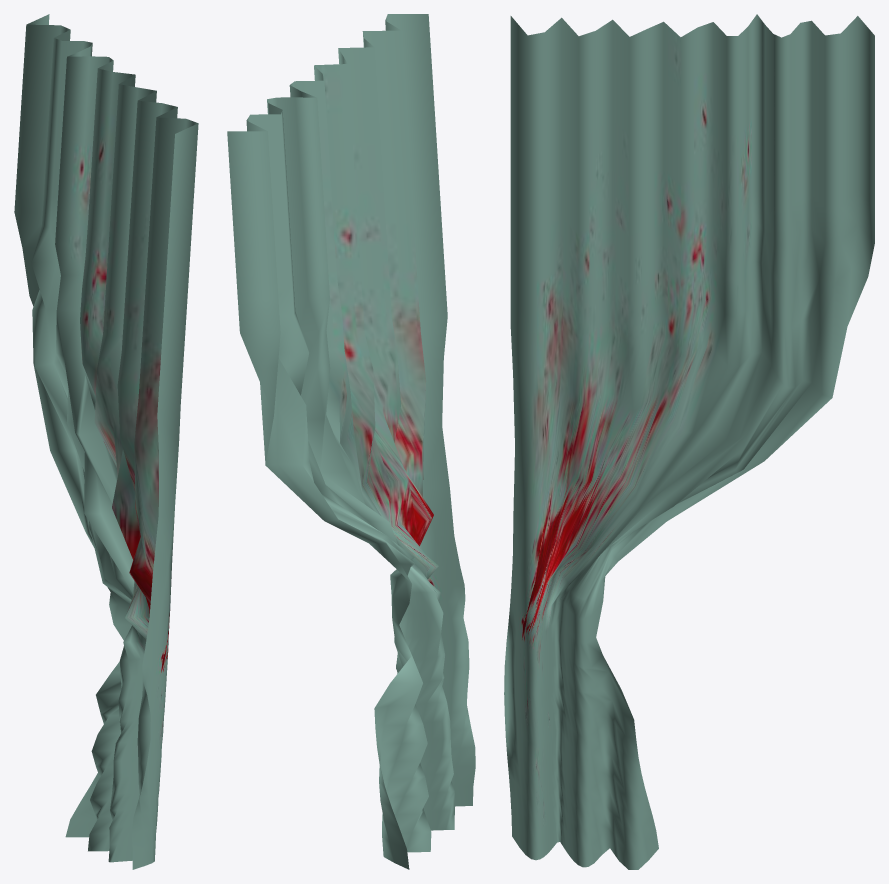
File: curtain.fbx
The picture shows the model from 3 angles, left to right: view 1: azimuth 30°, elevation 25°; view 2: azimuth 150°, elevation 25°; view 3: azimuth 270°, elevation 25°; orthographic projection. The views are drawn at different scales.
Parts seen in each view (by area): view 1: Plane; view 2: Plane; view 3: Plane.
Part boxes in pixels (box(x1,y1,x2,y2)): Plane: box(14, 14, 198, 869); Plane: box(227, 14, 475, 869); Plane: box(504, 14, 874, 869).
Size of the model in its own units: 48.54 by 430 by 168.
Materials: 1 (1 with a texture image).
